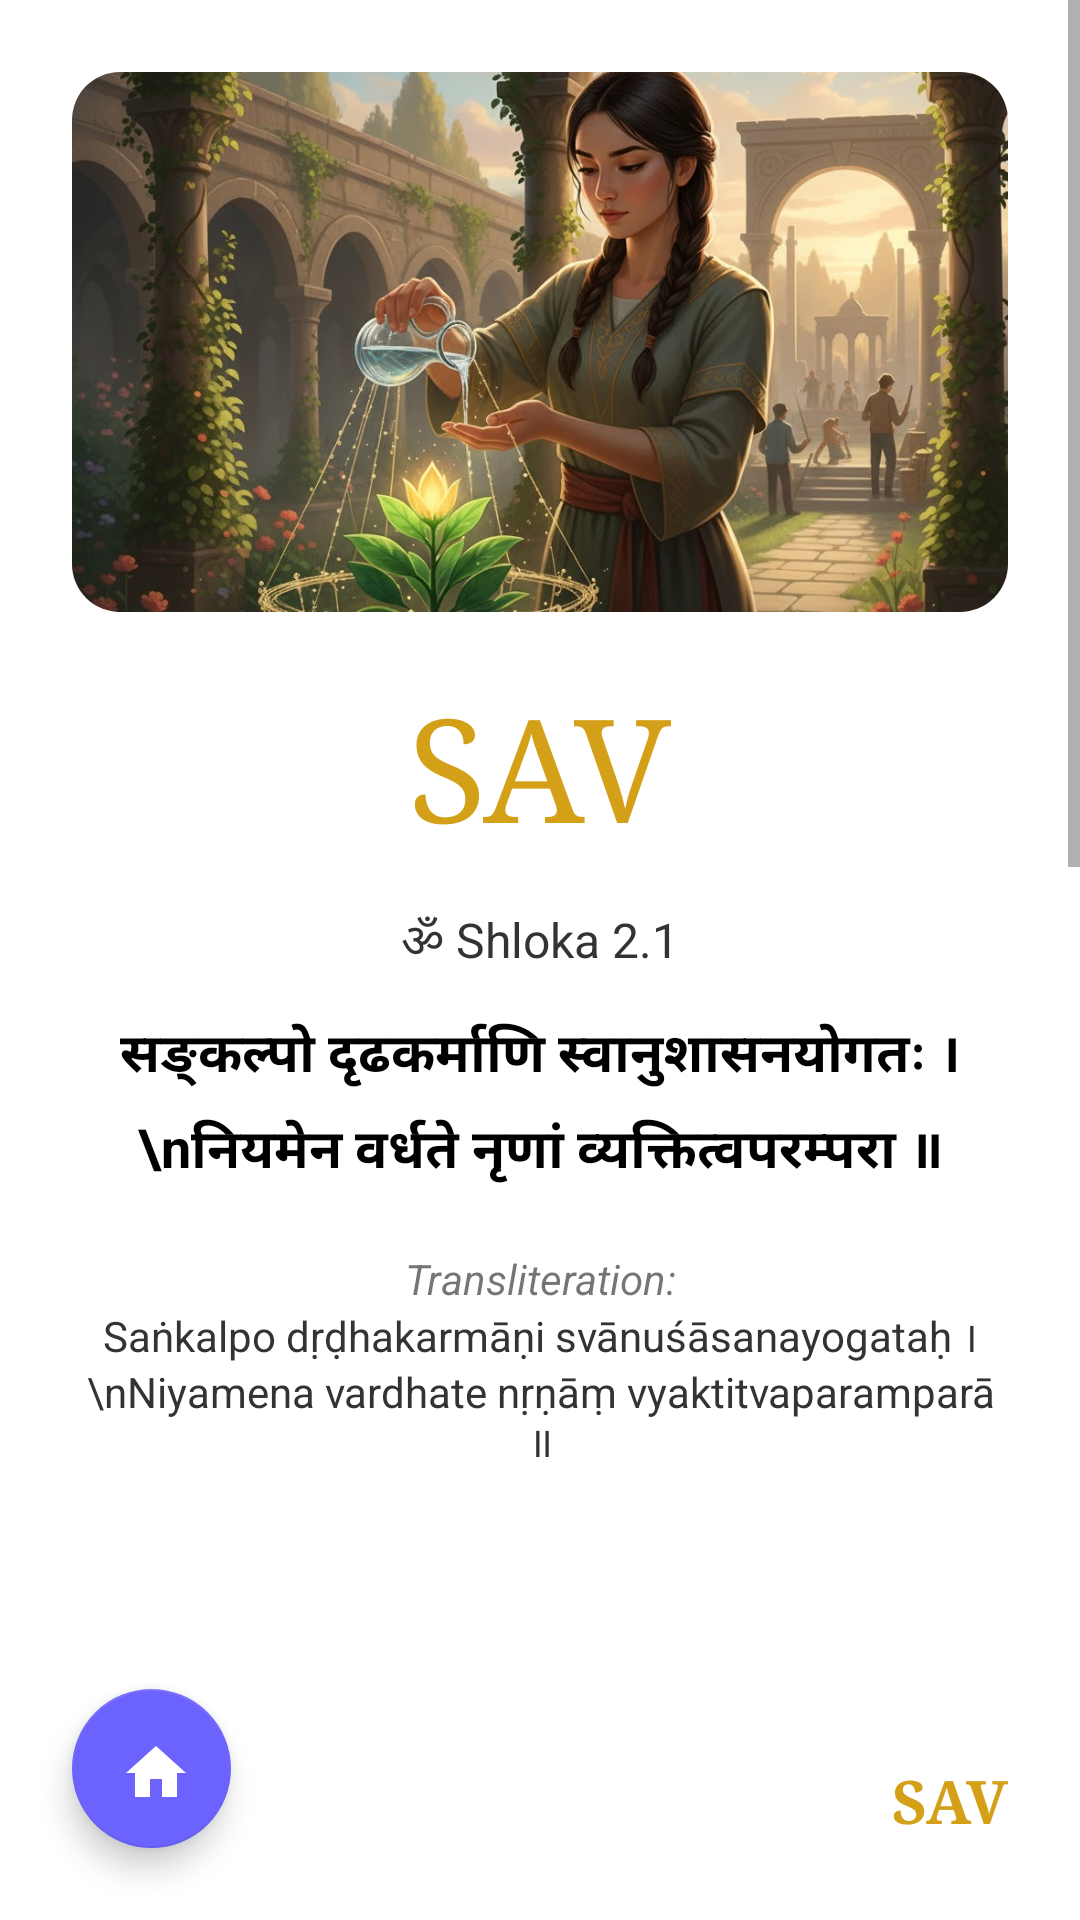

Icons on this 1080w x 1920h Android screen, each with its box as (x1, y1, x2, y2):
home: (72, 1689, 231, 1848)
